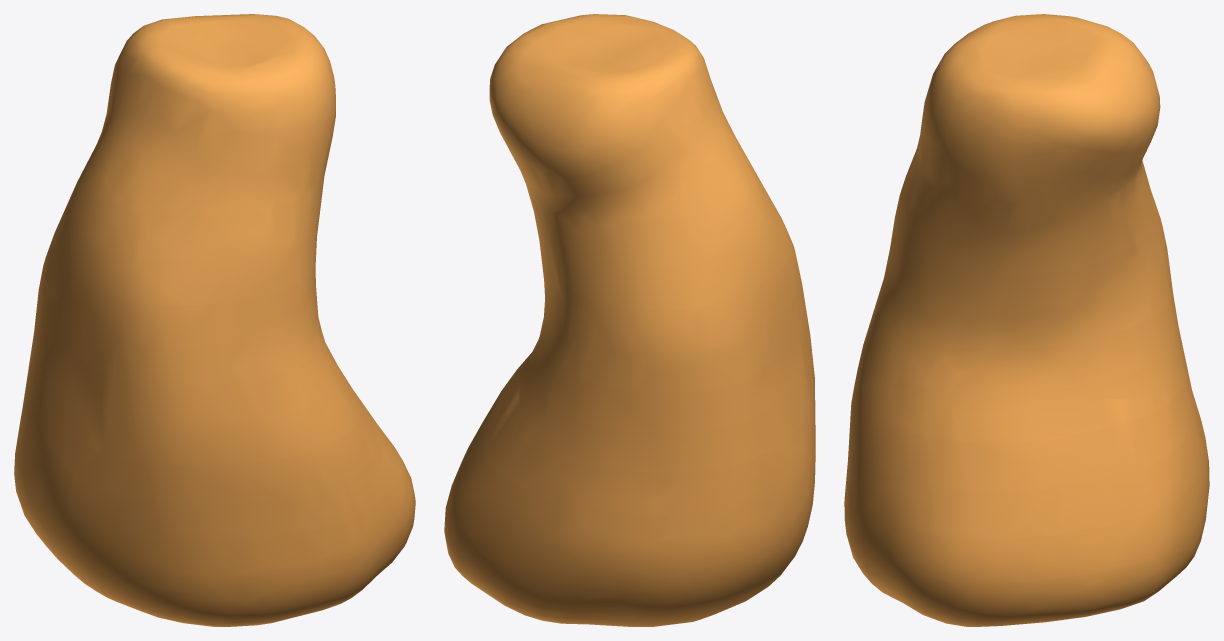
File: ShroomStalk.fbx
3 views of the same model, side by side, from view 1: azimuth 30°, elevation 25°; view 2: azimuth 150°, elevation 25°; view 3: azimuth 270°, elevation 25° (orthographic). The views are drawn at different scales.
Visible parts, largest first — view 1: ShroomStalk; view 2: ShroomStalk; view 3: ShroomStalk.
Boxes of the visible parts, box(x1,y1,x2,y2) form: ShroomStalk: box(14, 14, 415, 626); ShroomStalk: box(444, 14, 815, 626); ShroomStalk: box(844, 14, 1209, 626).
Bounding box in the file's own units: 8.82 × 8.29 × 13.36.
